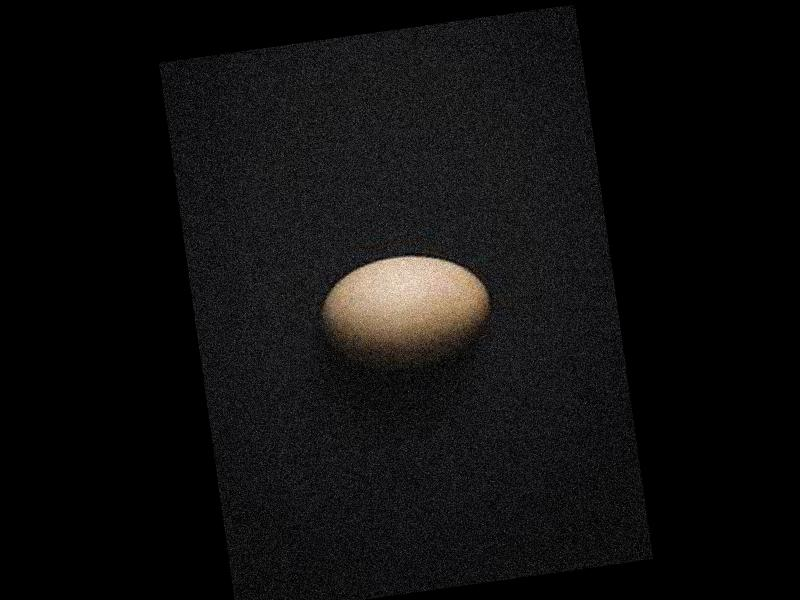Eggs: (312, 244, 500, 376)
